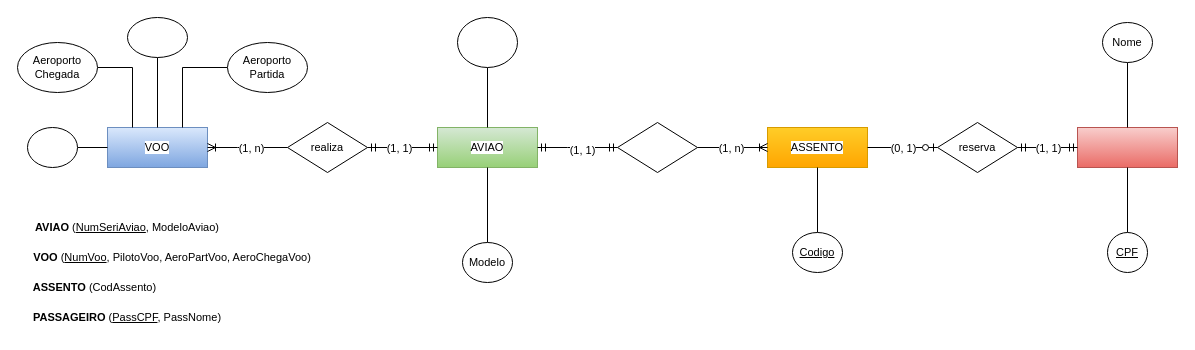
The diagram is 1195 pixels wide and 350 high, and some of its shapes have lost their labels. Each missing label, with the box of its shape:
Numero: (126, 16, 188, 58)
Numero Serie: (456, 16, 518, 68)
PASSAGEIRO: (1076, 126, 1178, 168)
Piloto: (26, 126, 78, 168)
possui: (616, 122, 698, 172)
